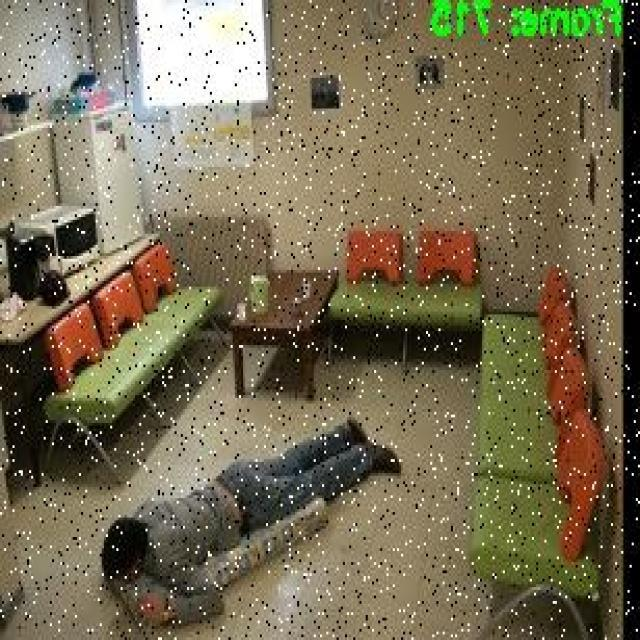fall: (98, 408, 407, 630)
